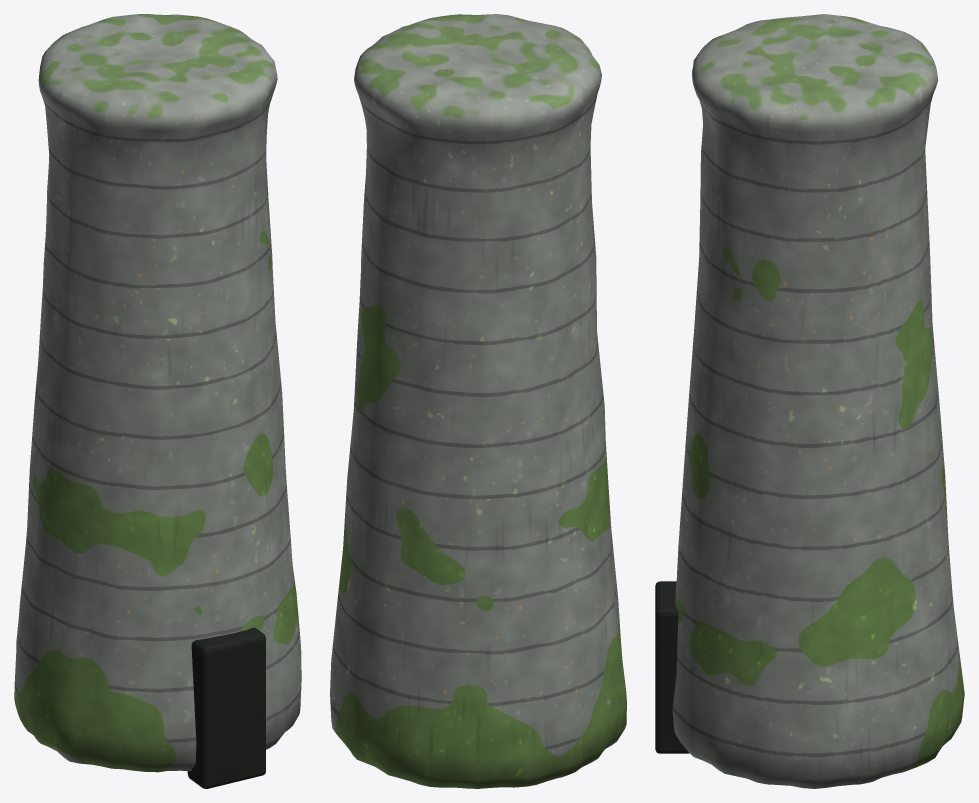
The model's file is fog_tower_ruin.glb.
The picture shows the model from 3 angles, left to right: view 1: azimuth 30°, elevation 25°; view 2: azimuth 150°, elevation 25°; view 3: azimuth 270°, elevation 25°; orthographic projection. The views are drawn at different scales.
Visible parts, largest first — view 1: FogTower; view 2: FogTower; view 3: FogTower.
Boxes of the visible parts, bbox=[...] form: FogTower: bbox=[14, 14, 301, 788]; FogTower: bbox=[330, 14, 626, 788]; FogTower: bbox=[655, 14, 964, 788].
Bounding box in the file's own units: 3.17 × 8.11 × 3.31.
1 material, 1 textured.
